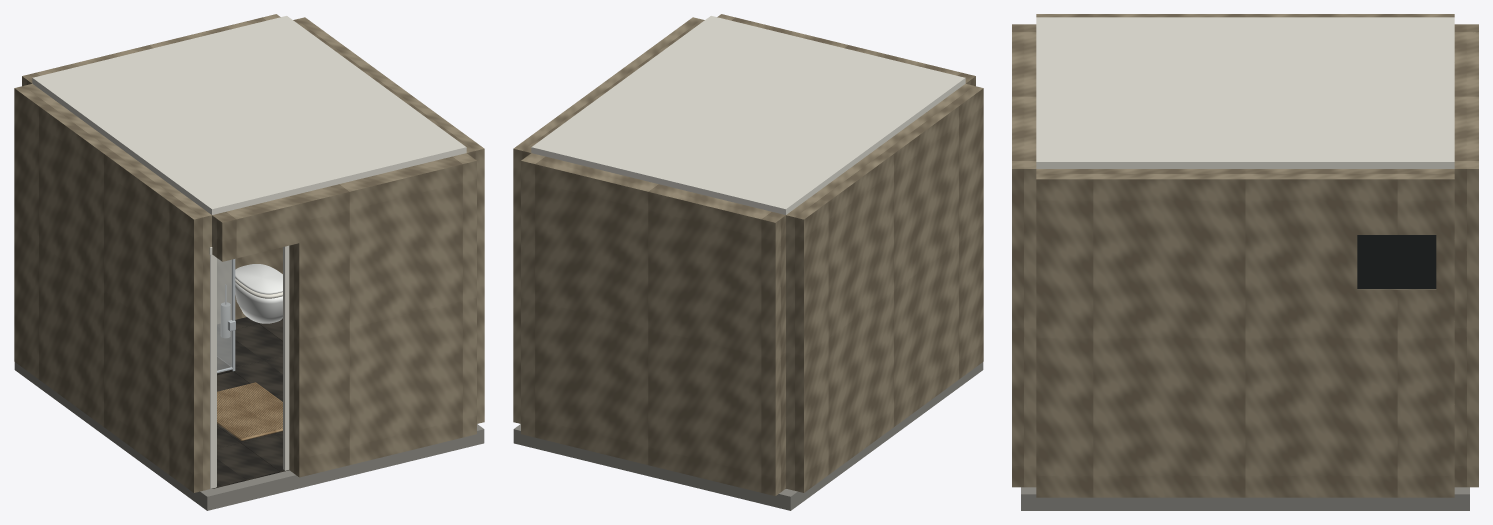
The model's file is 9_Alternatif_3_1.glb.
3 views of the same model, side by side, from view 1: azimuth 30°, elevation 25°; view 2: azimuth 150°, elevation 25°; view 3: azimuth 270°, elevation 25° (orthographic). The views are drawn at different scales.
Visible parts, largest first — view 1: Ön duvar | sunum için gizli, Sol duvar, Tavan | plan görünümünde gizlenir, Zemin taşıyıcı, Sağ duvar / gerçek pencere boşluğu, Dokulu banyo paspası, Zemin seramik / derz 2mm.013, Zemin seramik / derz 2mm, Kabin menteşeli kapı, Kapı pervazı, Kapı pervazı.001, 103x20cm tam boy rezervuar çıkıntısı (+6 smaller); view 2: Arka duvar / gerçek niş boşlukları, Sol duvar, Tavan | plan görünümünde gizlenir, Zemin taşıyıcı, Sağ duvar / gerçek pencere boşluğu, Ön duvar | sunum için gizli; view 3: Sağ duvar / gerçek pencere boşluğu, Tavan | plan görünümünde gizlenir, Arka duvar / gerçek niş boşlukları, Ön duvar | sunum için gizli, Zemin taşıyıcı, Havalandırma karanlık iç boşluğu, Sol duvar.
Part boxes in pixels (bbox=[...]): Ön duvar | sunum için gizli: bbox=[212, 153, 476, 477]; Sol duvar: bbox=[14, 83, 211, 492]; Tavan | plan görünümünde gizlenir: bbox=[32, 16, 466, 214]; Zemin taşıyıcı: bbox=[14, 362, 484, 510]; Sağ duvar / gerçek pencere boşluğu: bbox=[293, 17, 484, 423]; Dokulu banyo paspası: bbox=[217, 382, 282, 440]; Zemin seramik / derz 2mm.013: bbox=[217, 324, 282, 367]; Zemin seramik / derz 2mm: bbox=[212, 443, 279, 488]; Kabin menteşeli kapı: bbox=[217, 258, 232, 370]; Kapı pervazı: bbox=[210, 252, 216, 488]; Kapı pervazı.001: bbox=[283, 245, 289, 470]; 103x20cm tam boy rezervuar çıkıntısı: bbox=[217, 247, 282, 323]; Arka duvar / gerçek niş boşlukları: bbox=[521, 153, 785, 496]; Sol duvar: bbox=[786, 83, 983, 492]; Tavan | plan görünümünde gizlenir: bbox=[531, 16, 965, 214]; Zemin taşıyıcı: bbox=[513, 362, 983, 510]; Sağ duvar / gerçek pencere boşluğu: bbox=[513, 17, 704, 423]; Ön duvar | sunum için gizli: bbox=[717, 14, 975, 86]; Sağ duvar / gerçek pencere boşluğu: bbox=[1036, 169, 1454, 497]; Tavan | plan görünümünde gizlenir: bbox=[1036, 17, 1454, 168]; Arka duvar / gerçek niş boşlukları: bbox=[1454, 24, 1478, 487]; Ön duvar | sunum için gizli: bbox=[1012, 24, 1036, 487]; Zemin taşıyıcı: bbox=[1021, 487, 1469, 510]; Havalandırma karanlık iç boşluğu: bbox=[1357, 235, 1436, 289]; Sol duvar: bbox=[1036, 14, 1454, 17].
Size of the model in its own units: 2.57 by 2.49 by 3.07.
Materials: 15 (4 with a texture image).
